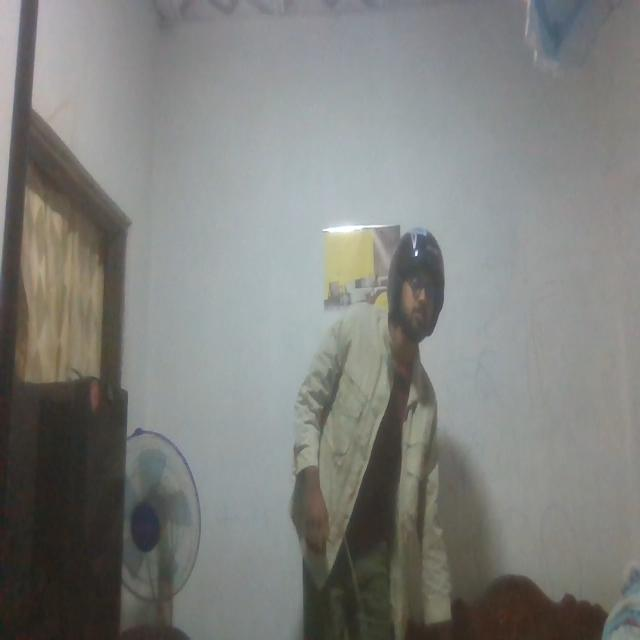Helmet_Wearer: (378, 222, 452, 342)
Jacket_Wearer: (297, 300, 453, 630)
Person: (282, 213, 450, 640)
